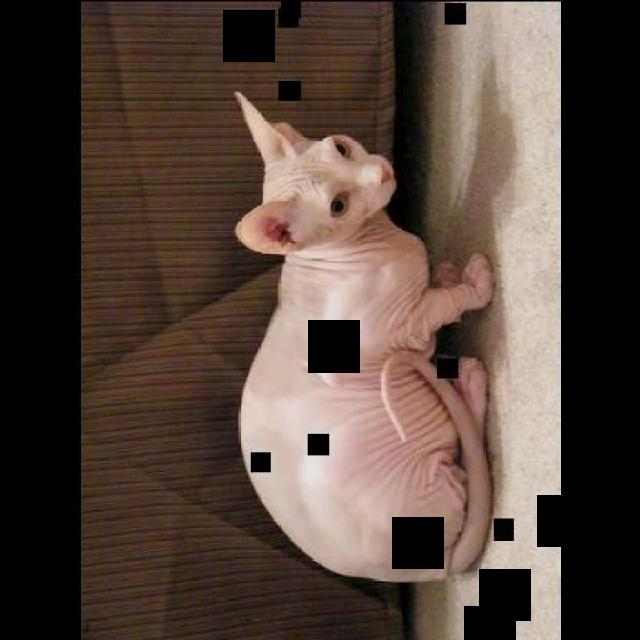unauthorized: (231, 89, 495, 583)
